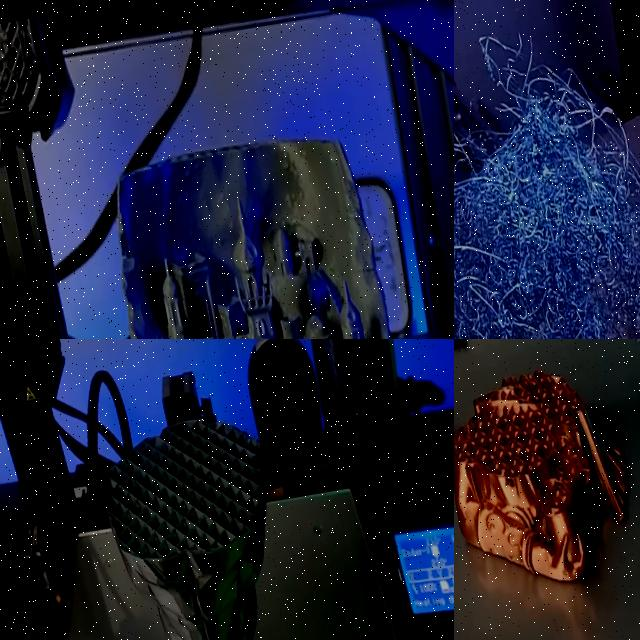spaghetti: (454, 39, 640, 339)
